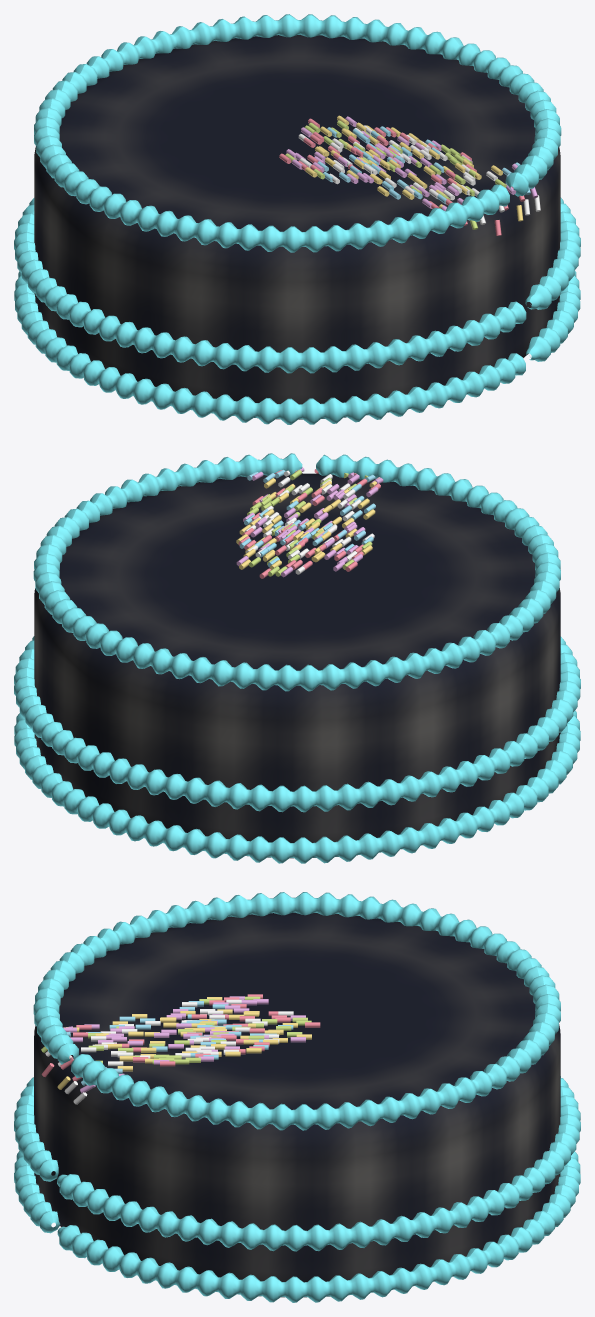
Rendered from cake.glb.
The picture shows the model from 3 angles, top to bottom: view 1: azimuth 30°, elevation 25°; view 2: azimuth 150°, elevation 25°; view 3: azimuth 270°, elevation 25°; orthographic projection.
Bounding box in the file's own units: 0.2585 × 0.0984 × 0.2584.
